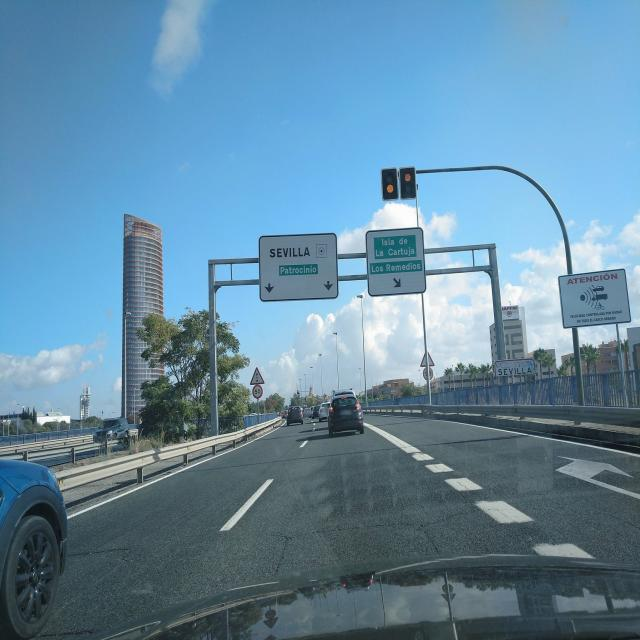car: (0, 415, 68, 639), (328, 390, 364, 436), (286, 406, 304, 425), (318, 401, 331, 422), (310, 404, 320, 418), (303, 406, 312, 417)
